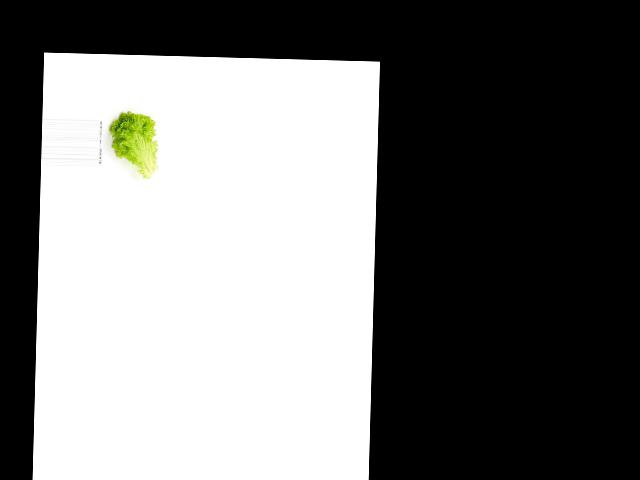lettuce: (108, 108, 161, 178)
